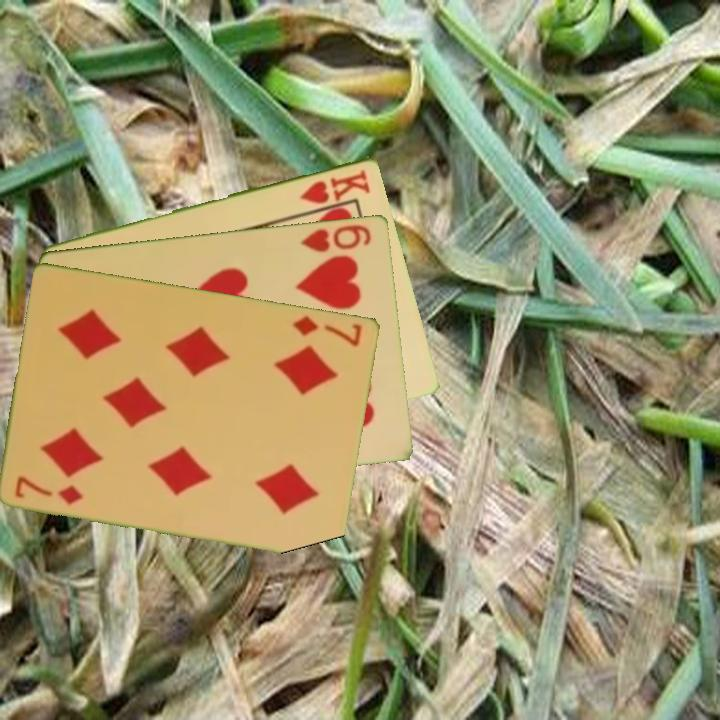6h: (297, 220, 375, 255)
7d: (289, 311, 365, 349), (11, 472, 86, 508)
Kh: (296, 165, 374, 207)
